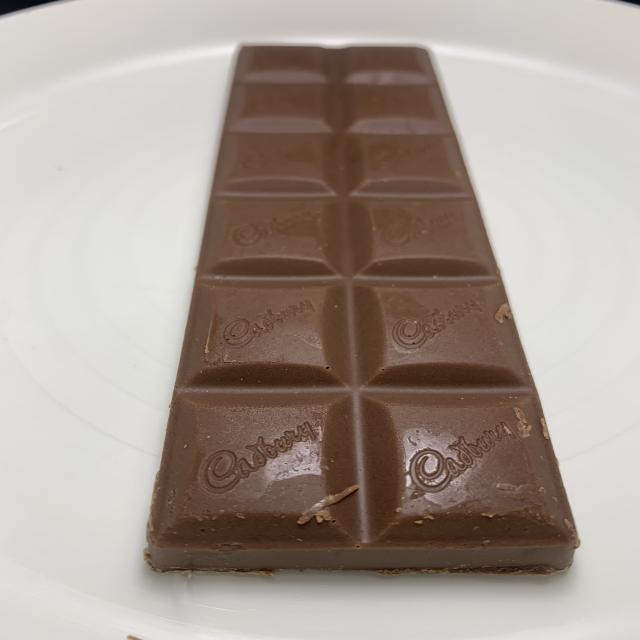Chocolate: (144, 43, 580, 584)
